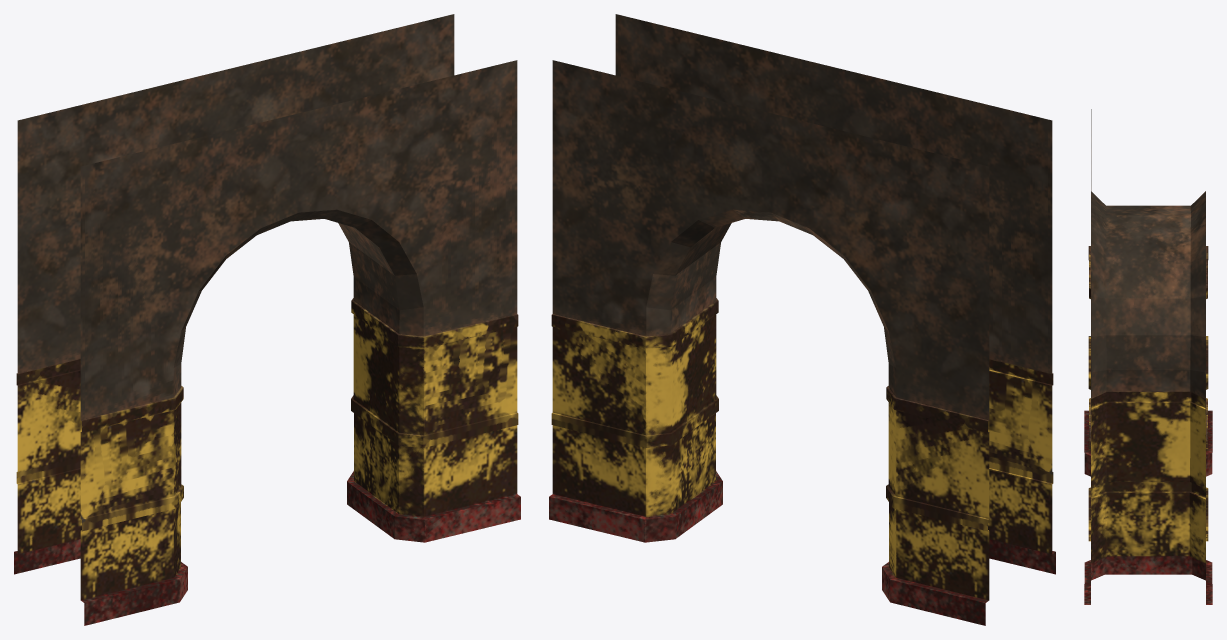
File: arch2.fbx
3 views of the same model, side by side, from view 1: azimuth 30°, elevation 25°; view 2: azimuth 150°, elevation 25°; view 3: azimuth 270°, elevation 25° (orthographic). The views are drawn at different scales.
Visible parts, largest first — view 1: arch2.001; view 2: arch2.001; view 3: arch2.001.
Part boxes in pixels (left/top/right/bottom): arch2.001: left=14, top=14, right=520, bottom=625; arch2.001: left=549, top=14, right=1055, bottom=625; arch2.001: left=1084, top=109, right=1212, bottom=604.
Size of the model in its own units: 400 by 400 by 112.
Materials: 1 (1 with a texture image).
